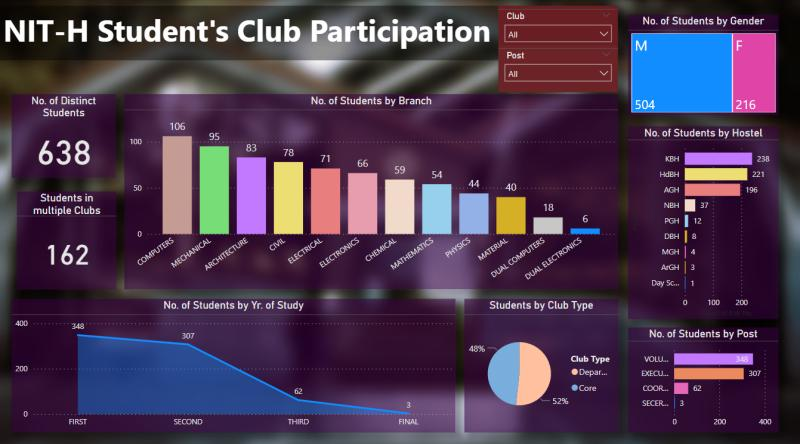

This screenshot's page, from the dashboard's own definition file:
{"tool":"powerbi","page":{"name":"Page 1","canvas":[1280,720],"ordinal":0},"visuals":[{"type":"card","title":"No. of Distinct Students","fields":{"Values":["Count(NITH Clubs - Sheet1.Roll No.)"]},"box":[18.9,155,166.3,134.2],"z":0},{"type":"treemap","title":"No. of Students by Gender","fields":{"Group":["NITH Clubs - Sheet1.Gender"],"Values":["CountNonNull(NITH Clubs - Sheet1.Roll No.)"]},"box":[1003.5,26.5,240,160.6],"z":1000},{"type":"areaChart","title":"No. of Students by Yr. of Study","fields":{"Category":["NITH Clubs - Sheet1.Yr. of Study"],"Y":["CountNonNull(NITH Clubs - Sheet1.Roll No.)"]},"box":[18.9,481.9,708.7,213.5],"z":2000},{"type":"clusteredColumnChart","title":"No. of Students by Branch","fields":{"Y":["CountNonNull(NITH Clubs - Sheet1.Roll No.)"],"Category":["NITH Clubs - Sheet1.Branch"]},"box":[198.4,155,788,311.8],"z":3000},{"type":"pieChart","title":"Students by Club Type","fields":{"Y":["CountNonNull(NITH Clubs - Sheet1.Roll No.)"],"Category":["NITH Clubs - Sheet1.Club Type"]},"box":[740.8,481.9,245.7,213.5],"z":4000},{"type":"card","title":"Students in multiple Clubs","fields":{"Values":["CountNonNull(NITH Clubs - Sheet1.No. of Clubs)"]},"box":[26.5,309.9,158.7,156.9],"z":5000},{"type":"clusteredBarChart","title":"No. of Students by Hostel","fields":{"Category":["NITH Clubs - Sheet1.Hostel"],"Y":["CountNonNull(NITH Clubs - Sheet1.Roll No.)"]},"box":[1003.5,206,240,308],"z":6000},{"type":"clusteredBarChart","title":"No. of Students by Post","fields":{"Y":["CountNonNull(NITH Clubs - Sheet1.Roll No.)"],"Category":["NITH Clubs - Sheet1.Post"]},"box":[1003.5,527.2,240,168.2],"z":7000},{"type":"textbox","box":[0,13,796,87],"z":8000},{"type":"slicer","fields":{"Values":["NITH Clubs - Sheet1.Club"]},"box":[795.6,13.2,190.9,75.6],"z":9000},{"type":"slicer","fields":{"Values":["NITH Clubs - Sheet1.Post"]},"box":[795.6,75.6,190.9,75.6],"z":10000}]}

Visuals, with their boxes in screenshot pixels (x1, y1, x2, y2), scaled from the page's 1280x720 canvas onto the 800x444 screenshot:
"No. of Distinct Students" card: 12/96/116/178
"No. of Students by Gender" treemap: 627/16/777/115
"No. of Students by Yr. of Study" areaChart: 12/297/455/429
"No. of Students by Branch" clusteredColumnChart: 124/96/616/288
"Students by Club Type" pieChart: 463/297/617/429
"Students in multiple Clubs" card: 17/191/116/288
"No. of Students by Hostel" clusteredBarChart: 627/127/777/317
"No. of Students by Post" clusteredBarChart: 627/325/777/429
textbox: 0/8/498/62
slicer - NITH Clubs - Sheet1.Club: 497/8/617/55
slicer - NITH Clubs - Sheet1.Post: 497/47/617/93
